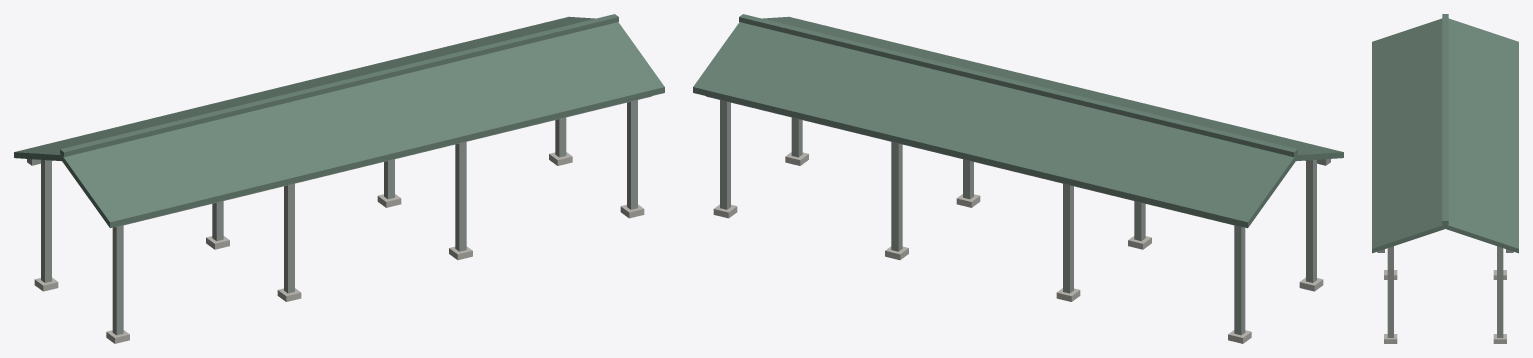
3 renders of one model, left to right at view 1: azimuth 30°, elevation 25°; view 2: azimuth 150°, elevation 25°; view 3: azimuth 270°, elevation 25°, orthographic. The views are drawn at different scales.
Visible parts, largest first — view 1: osm533849928__roof, osm533849928__steel, osm533849928__base; view 2: osm533849928__roof, osm533849928__steel, osm533849928__base; view 3: osm533849928__roof, osm533849928__steel, osm533849928__base.
Boxes of the visible parts, x1,y1,x2,y2 form: osm533849928__roof: (14,14,664,228); osm533849928__steel: (27,96,651,335); osm533849928__base: (34,152,644,343); osm533849928__roof: (693,14,1343,228); osm533849928__steel: (706,96,1330,335); osm533849928__base: (713,152,1323,343); osm533849928__roof: (1372,14,1518,253); osm533849928__steel: (1377,246,1513,337); osm533849928__base: (1384,270,1506,343).
Bounding box in the file's own units: 11.79 × 3.39 × 3.53.
